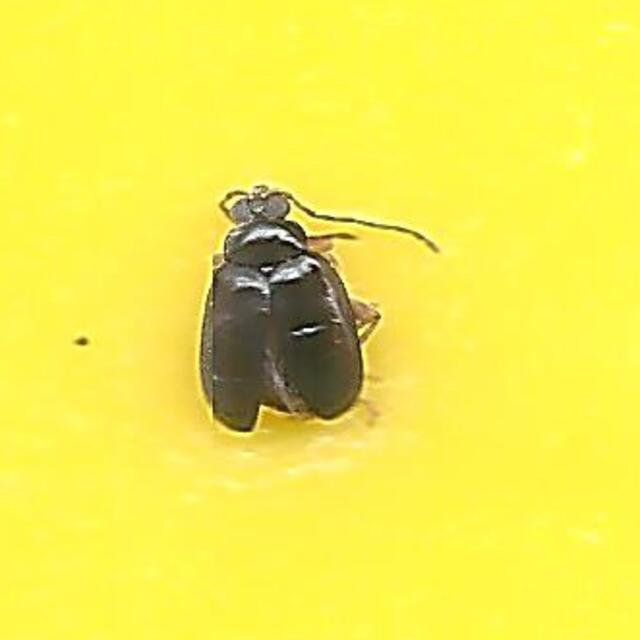Coleoptera: (193, 182, 447, 458)
